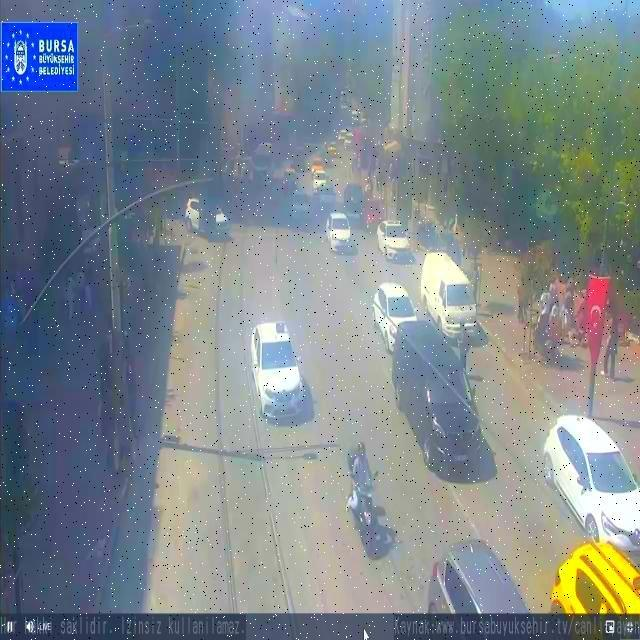Car: (388, 324, 491, 476), (539, 407, 640, 546), (234, 307, 312, 432), (538, 535, 640, 612), (432, 536, 529, 616), (366, 272, 414, 342), (180, 191, 234, 243), (380, 213, 413, 264), (325, 210, 356, 252), (308, 168, 337, 195)
Cycle: (342, 445, 384, 564)
Van: (415, 244, 488, 338)
